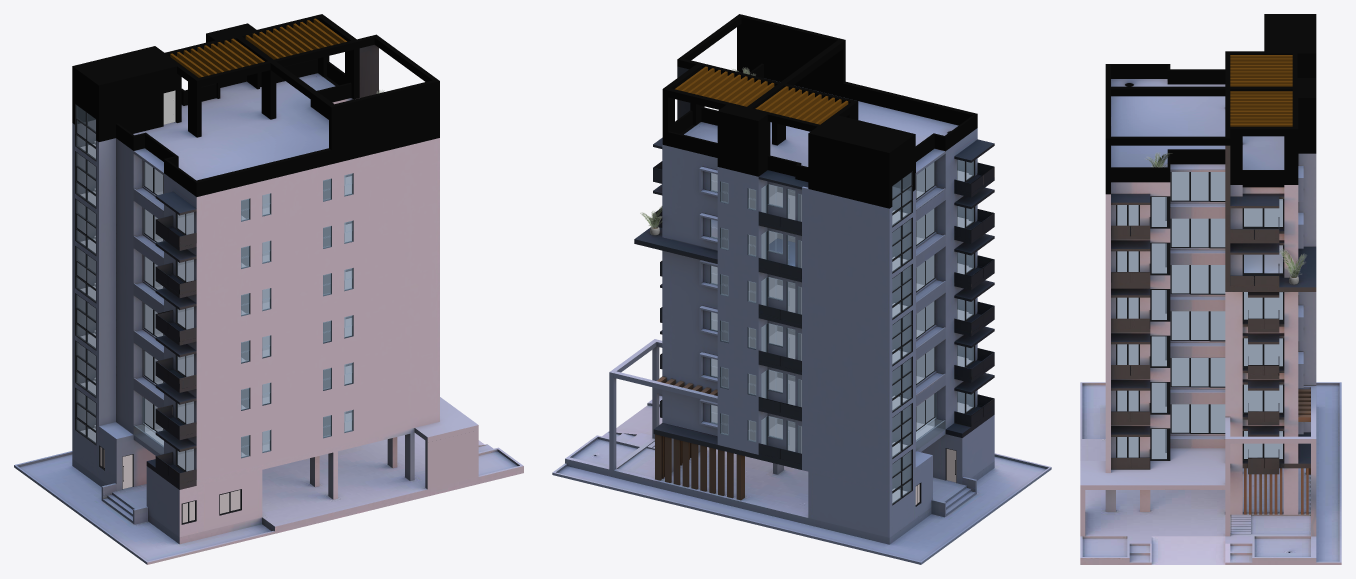
Rendered from building.glb.
3 renders of one model, left to right at view 1: azimuth 30°, elevation 25°; view 2: azimuth 150°, elevation 25°; view 3: azimuth 270°, elevation 25°, orthographic. The views are drawn at different scales.
Visible parts, largest first — view 1: Vidros, AB1_OBJ_06, AB1_OBJ_09, AB1_OBJ_02, TopPavimento, AB1_OBJ_12, AB1_OBJ_04, AB1_OBJ_06.001, AB1_OBJ_10, AB1_OBJ_02.001, Pavimentos, AB1_OBJ_03 (+2 smaller); view 2: Vidros, AB1_OBJ_06, AB1_OBJ_09, AB1_OBJ_02, AB1_OBJ_12, AB1_OBJ_03, AB1_OBJ_04, AB1_OBJ_06.001, AB1_OBJ_02.001, Pavimentos, TopPavimento, AB1_OBJ_10 (+1 smaller); view 3: AB1_OBJ_09, Vidros, Pavimentos, AB1_OBJ_06, AB1_OBJ_12, AB1_OBJ_02, AB1_OBJ_03, TopPavimento, AB1_OBJ_10, AB1_OBJ_02.001, AB1_OBJ_06.001, Apartment (+1 smaller).
Part boxes in pixels (x1,y1,x2,y2): Vidros: [72, 73, 439, 537]; AB1_OBJ_06: [72, 14, 439, 196]; AB1_OBJ_09: [14, 433, 523, 564]; AB1_OBJ_02: [75, 104, 353, 458]; TopPavimento: [133, 74, 333, 180]; AB1_OBJ_12: [146, 44, 378, 489]; AB1_OBJ_04: [145, 162, 345, 455]; AB1_OBJ_06.001: [170, 18, 346, 77]; AB1_OBJ_10: [414, 397, 478, 489]; AB1_OBJ_02.001: [133, 148, 163, 407]; Pavimentos: [145, 176, 351, 471]; AB1_OBJ_03: [175, 212, 193, 471]; Vidros: [653, 122, 994, 537]; AB1_OBJ_06: [662, 14, 977, 208]; AB1_OBJ_09: [552, 393, 1051, 564]; AB1_OBJ_02: [710, 161, 945, 505]; AB1_OBJ_12: [634, 66, 994, 469]; AB1_OBJ_03: [761, 159, 975, 453]; AB1_OBJ_04: [749, 162, 934, 453]; AB1_OBJ_06.001: [675, 66, 848, 124]; AB1_OBJ_02.001: [916, 148, 945, 406]; Pavimentos: [711, 170, 972, 451]; TopPavimento: [686, 81, 958, 166]; AB1_OBJ_10: [609, 339, 717, 477]; AB1_OBJ_09: [1080, 382, 1341, 564]; Vidros: [1105, 79, 1316, 514]; Pavimentos: [1117, 172, 1282, 458]; AB1_OBJ_06: [1105, 14, 1316, 194]; AB1_OBJ_12: [1111, 145, 1316, 474]; AB1_OBJ_02: [1150, 172, 1225, 460]; AB1_OBJ_03: [1116, 199, 1284, 460]; TopPavimento: [1111, 79, 1284, 169]; AB1_OBJ_10: [1080, 386, 1316, 536]; AB1_OBJ_02.001: [1170, 164, 1225, 448]; AB1_OBJ_06.001: [1230, 55, 1292, 126]; Apartment: [1244, 245, 1282, 273].
Size of what is drawn, in the model's own units: 999 by 1014 by 613.
23 materials, 14 textured.
